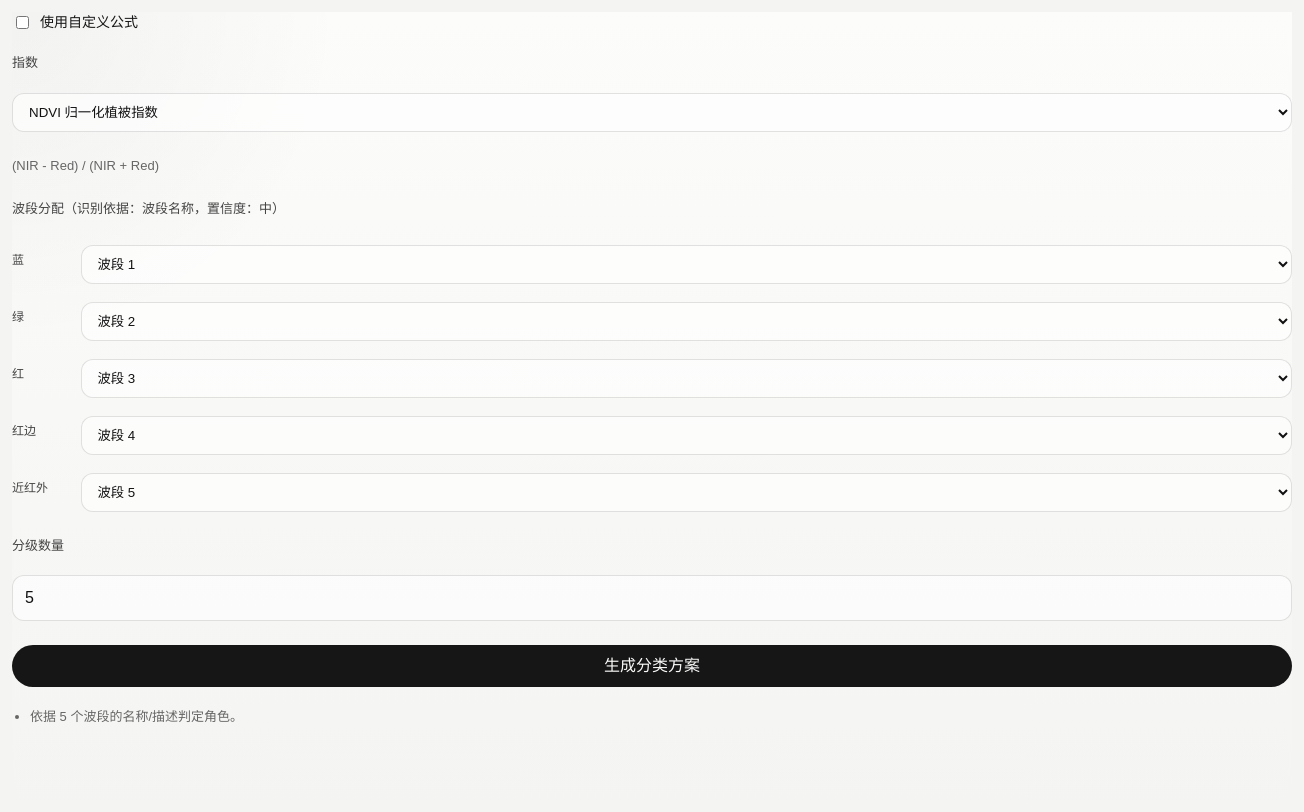
Test: VegetationIndexPanel › supports a custom formula and rejects an unsafe one
Later steps or results of the test are not shown.
Click the checkbox labelled "使用自定义公式". click: x=22, y=22
box: [16,16,29,29]
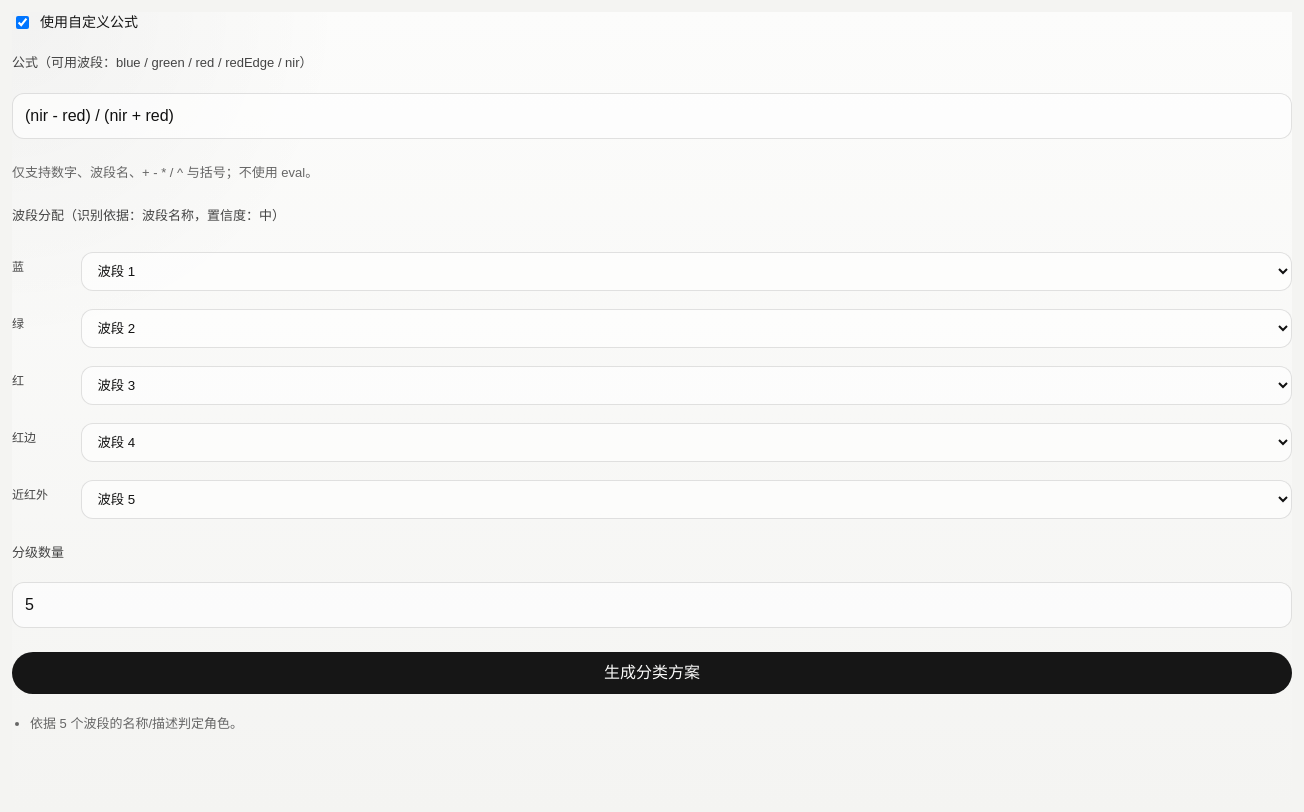
Replace the text in the number field labelled "分级数量" with "2". click: x=652, y=605
box: [12,582,1292,628]
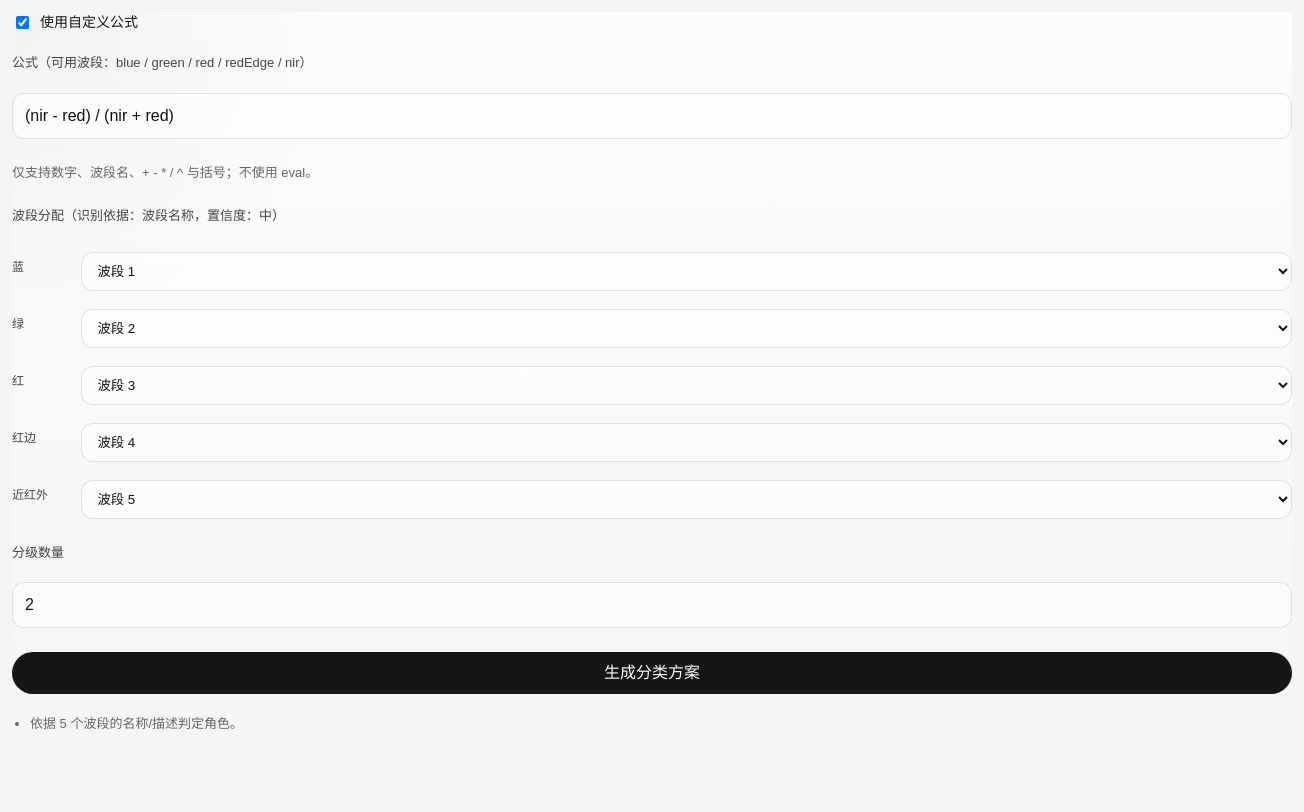
// 未知标识符必须被拒绝，而不是当成全局对象
Replace the text in the field labelled "公式（可用波段：blue / green / red / redEdge / nir）" with "ndvi * 2". click: x=652, y=116
box: [12,92,1292,138]
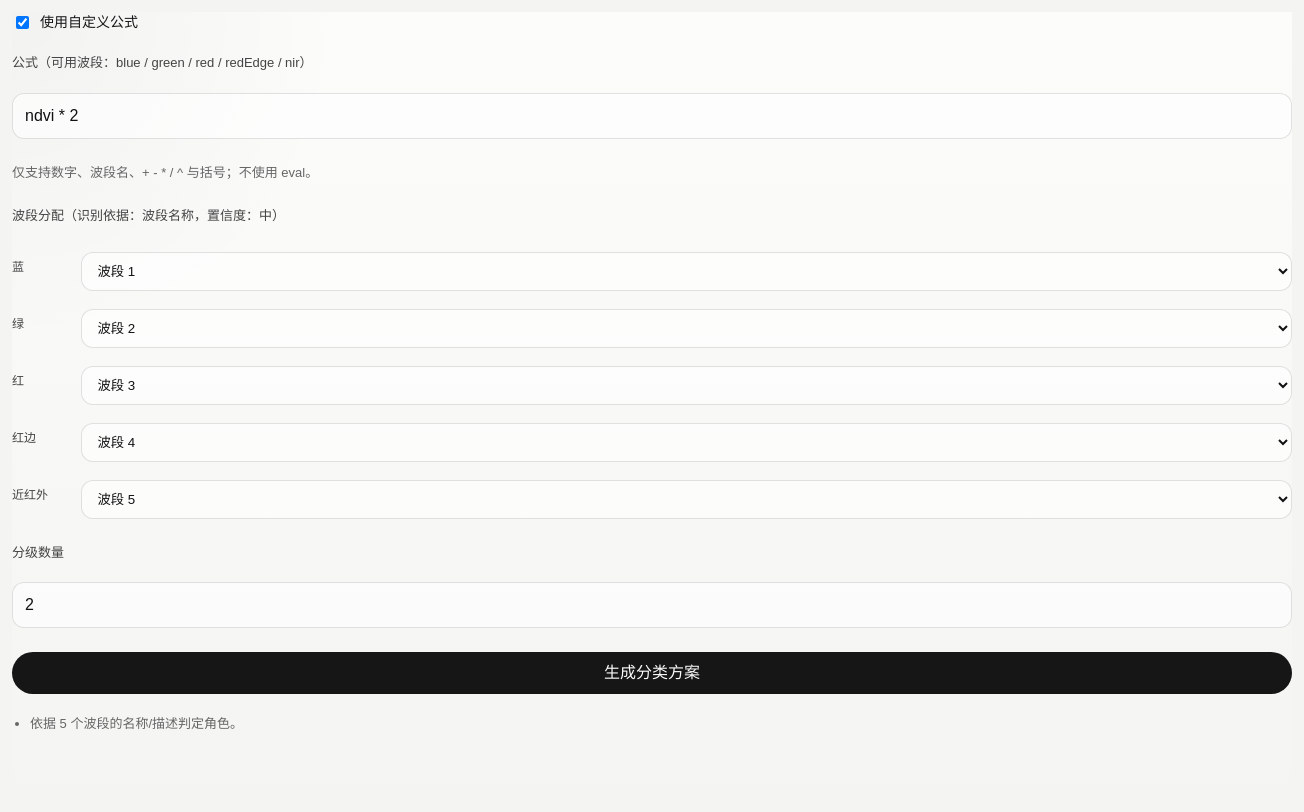
Click the button "生成分类方案". click: x=652, y=673
box: [12,652,1292,694]
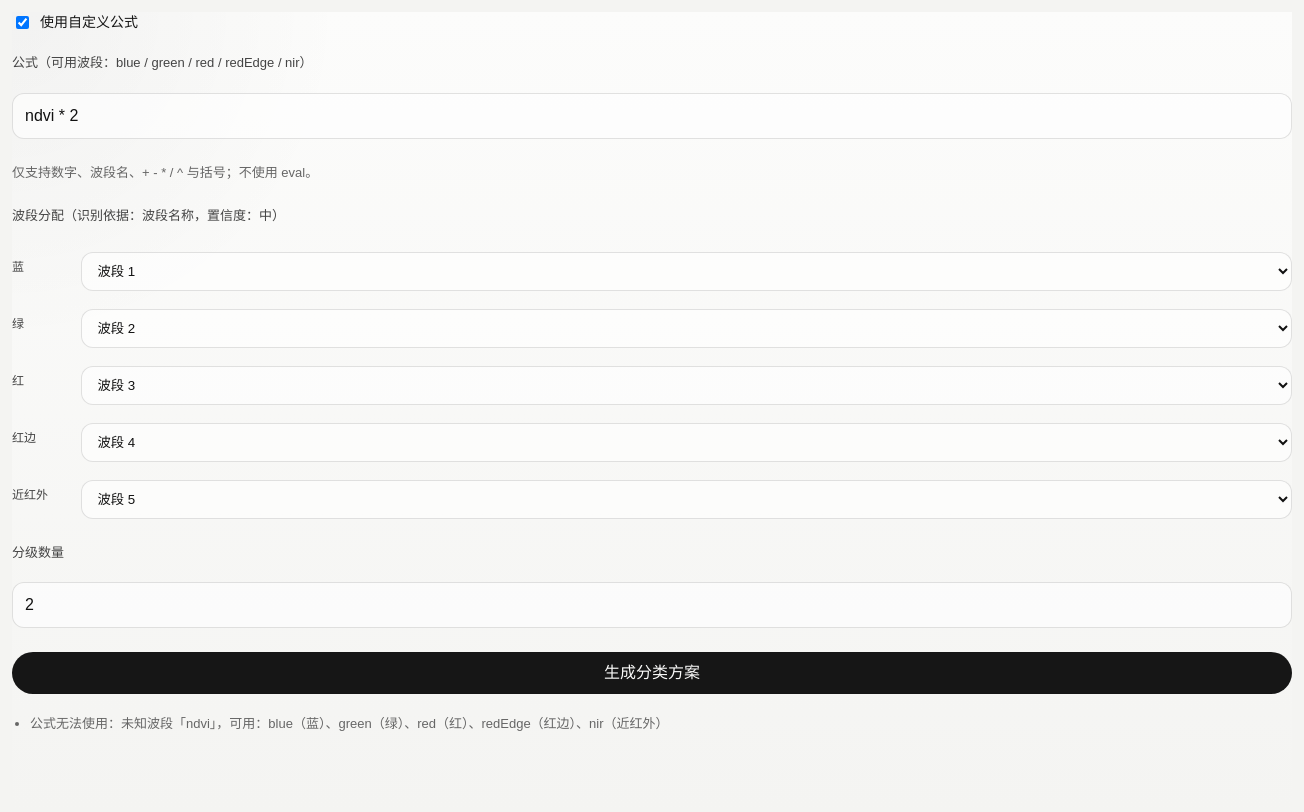
Expected: the list named "vegetation-index-message" shows "未知波段", [30,716,669,731]
